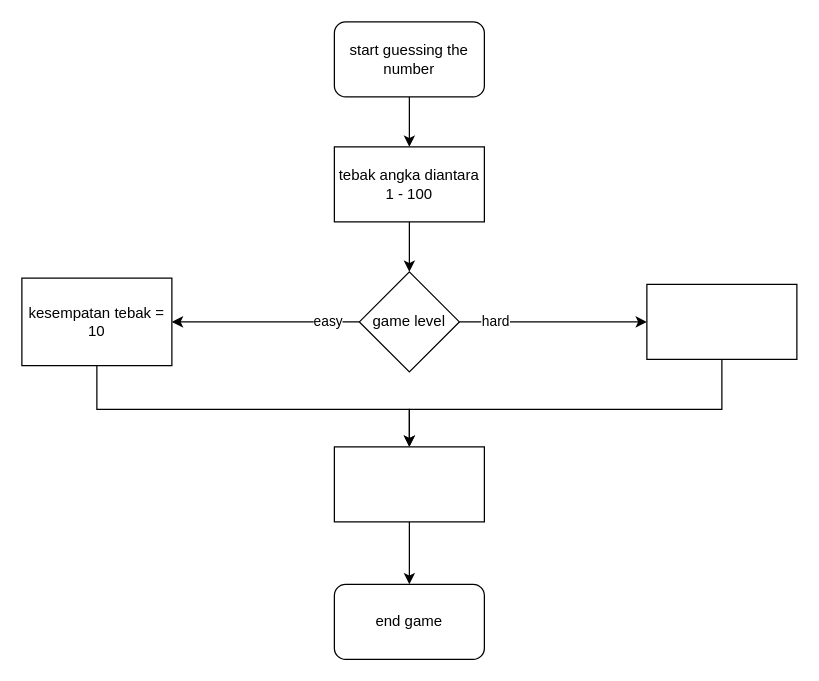
Some shapes in this 819 by 681 pixel diagram are drawn without their labels. Each missing label, with the box of its shape:
game dimulai setiap tebakan salah, kesempatan tebak -= 1: (333, 446, 484, 522)
kesempatan tebak = 5: (646, 283, 797, 359)
